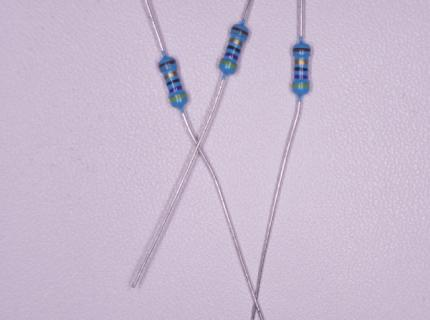Gold band: (229, 38, 244, 48), (164, 71, 178, 80), (294, 59, 309, 65)
Violet band: (224, 52, 239, 61), (169, 85, 183, 93), (294, 75, 308, 79)
Yellow band: (220, 60, 238, 71), (170, 93, 188, 103), (291, 83, 310, 88)
